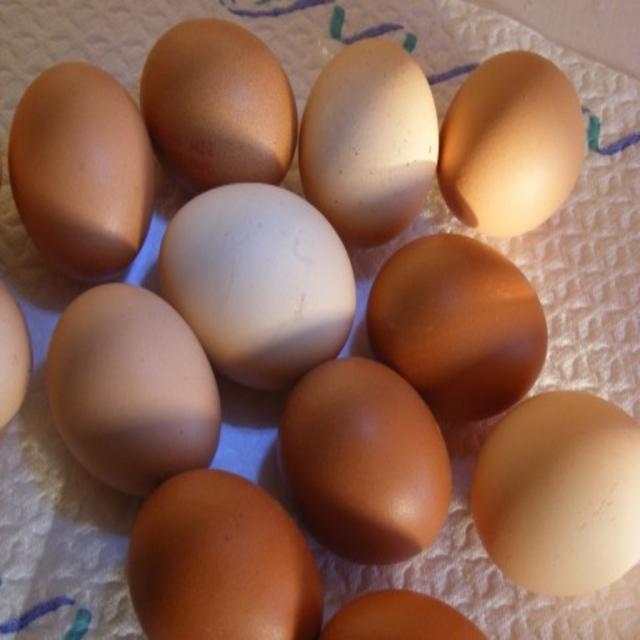Egg: (63, 60, 563, 638), (148, 178, 356, 394), (278, 357, 453, 561), (128, 458, 322, 640), (44, 283, 223, 479), (472, 389, 640, 597), (364, 235, 555, 414), (10, 60, 161, 278), (435, 42, 586, 239), (297, 37, 442, 240)
